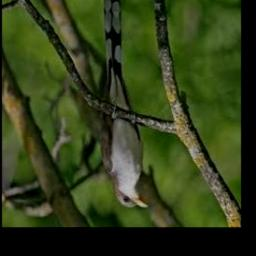Cuckoo: (98, 0, 149, 208)
